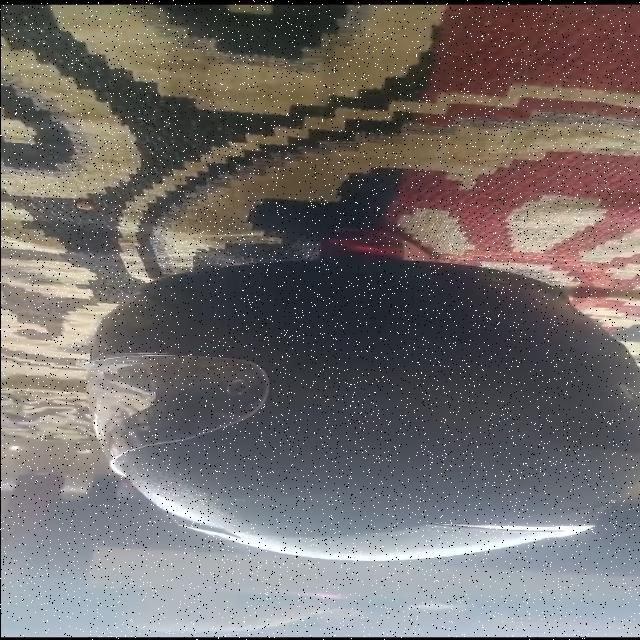Helmet: (84, 233, 640, 561)
